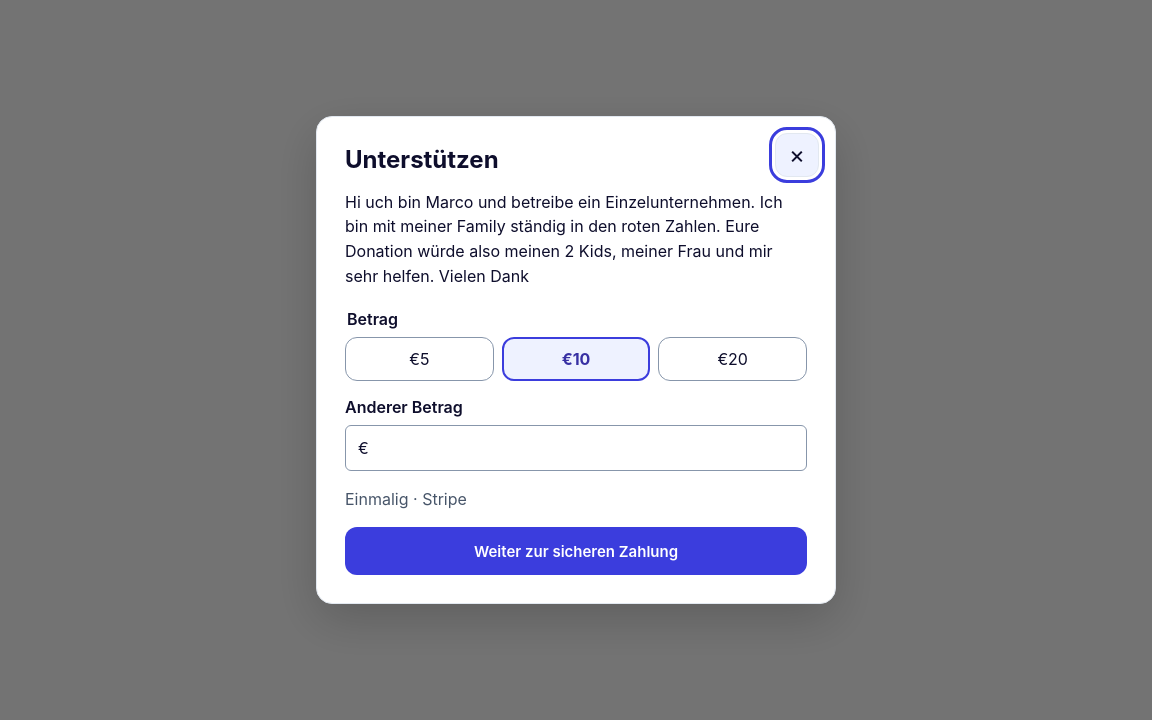
Test: rejects unsafe redirect http://checkout.stripe.com/c/pay/abc
Step 1. Click the button "Weiter zur sicheren Zahlung" → (576, 552), box [345,528,807,576]
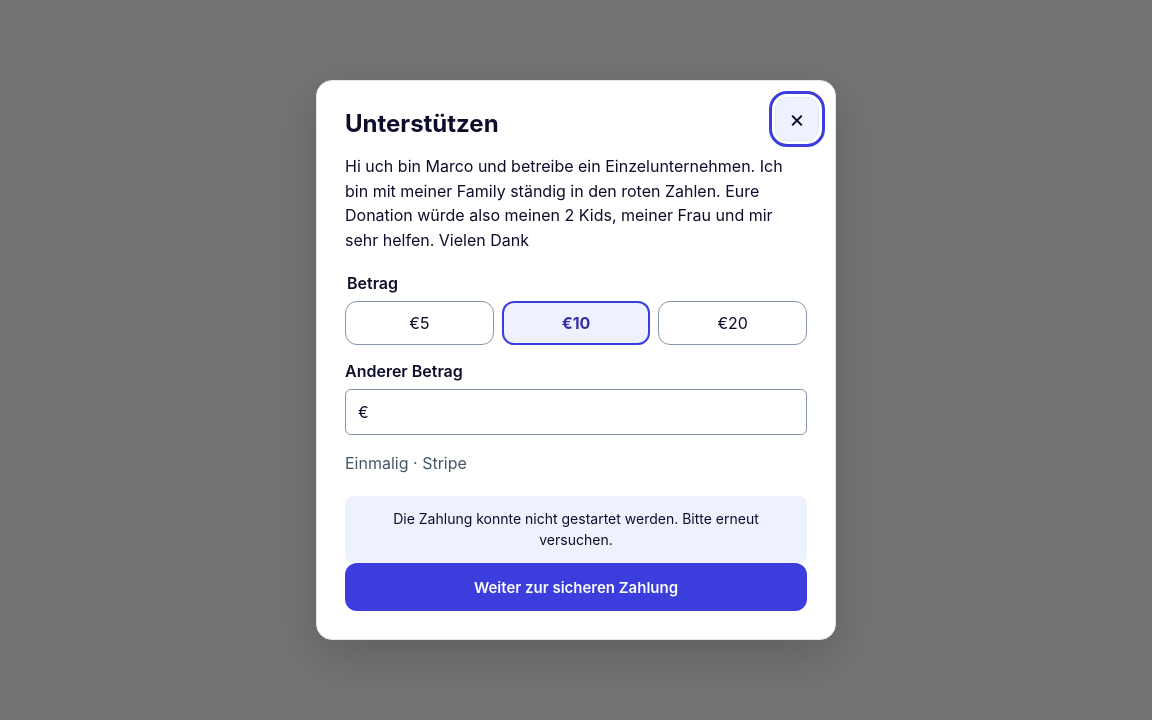
Check: the message "Die Zahlung konnte nicht gestartet werden. Bitte erneut versuchen." is shown, box [345,496,807,563]
